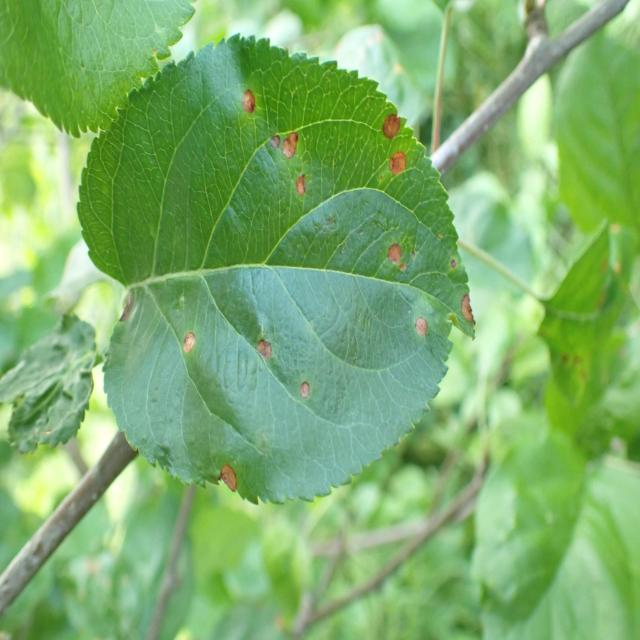Black Rot: (211, 436, 255, 502), (402, 311, 442, 357), (384, 146, 418, 196), (230, 74, 256, 130), (270, 115, 298, 167), (384, 236, 412, 286), (372, 99, 403, 144), (455, 290, 479, 345), (293, 371, 318, 423), (255, 321, 282, 366), (171, 325, 203, 360), (290, 172, 308, 204)
